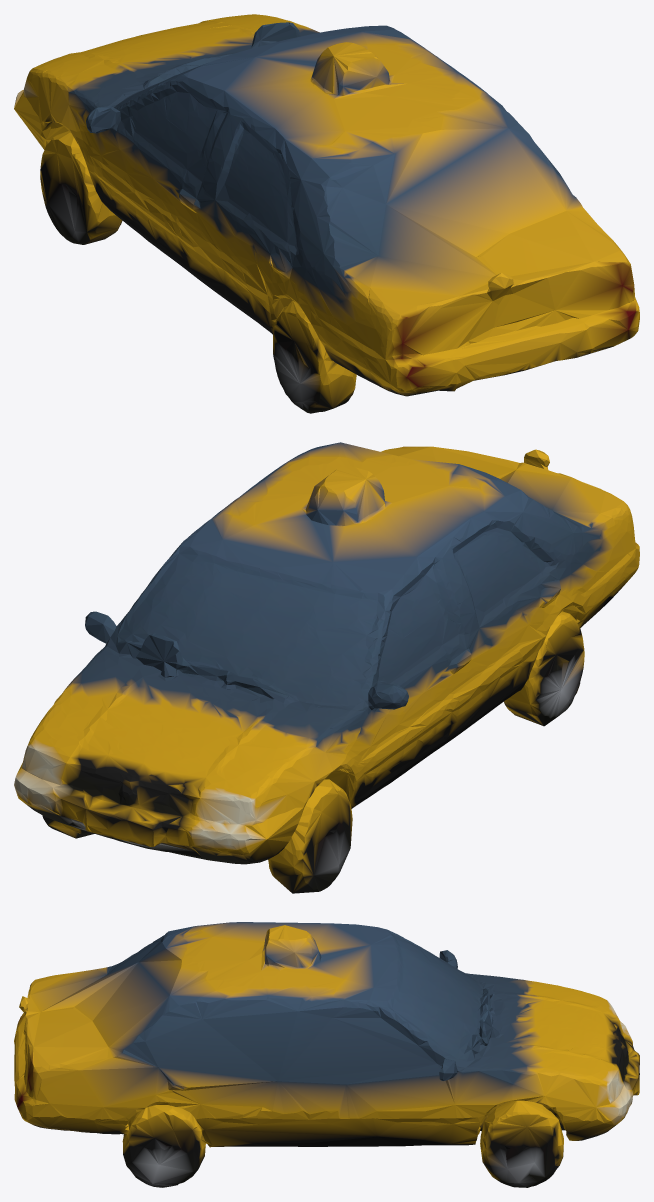
File: taxi_lod1.glb
3 views of the same model, one above another, from view 1: azimuth 30°, elevation 25°; view 2: azimuth 150°, elevation 25°; view 3: azimuth 270°, elevation 25° (orthographic). The views are drawn at different scales.
Visible parts, largest first — view 1: world; view 2: world; view 3: world.
Boxes of the visible parts, x1,y1,x2,y2 form: world: (14, 14, 639, 413); world: (14, 442, 639, 893); world: (14, 922, 639, 1187).
Size of the model in its own units: 91.6 by 75.15 by 200.
